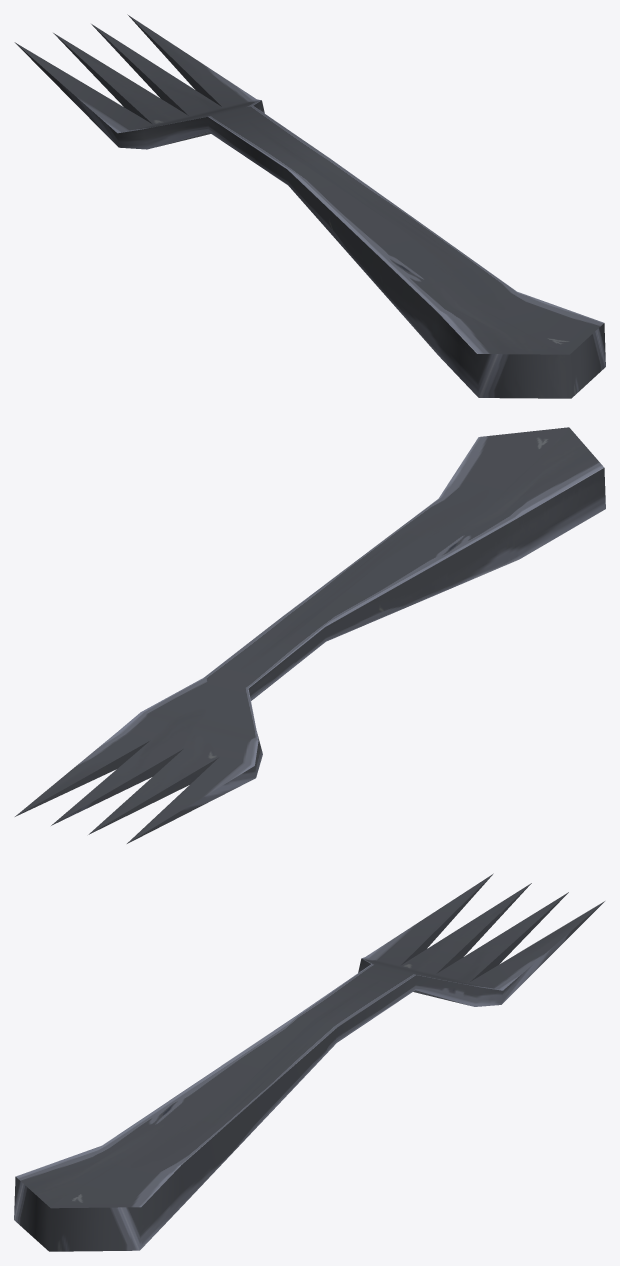
File: SM_PROP_fork_dungeon.fbx
The picture shows the model from 3 angles, top to bottom: view 1: azimuth 30°, elevation 25°; view 2: azimuth 150°, elevation 25°; view 3: azimuth 330°, elevation 25°; orthographic projection.
Parts seen in each view (by area): view 1: SM_PROP_fork_dungeon; view 2: SM_PROP_fork_dungeon; view 3: SM_PROP_fork_dungeon.
Boxes of the visible parts, x1,y1,x2,y2 form: SM_PROP_fork_dungeon: (14, 14, 605, 398); SM_PROP_fork_dungeon: (15, 427, 605, 843); SM_PROP_fork_dungeon: (14, 873, 604, 1251).
Bounding box in the file's own units: 3.62 × 1.43 × 22.66.
